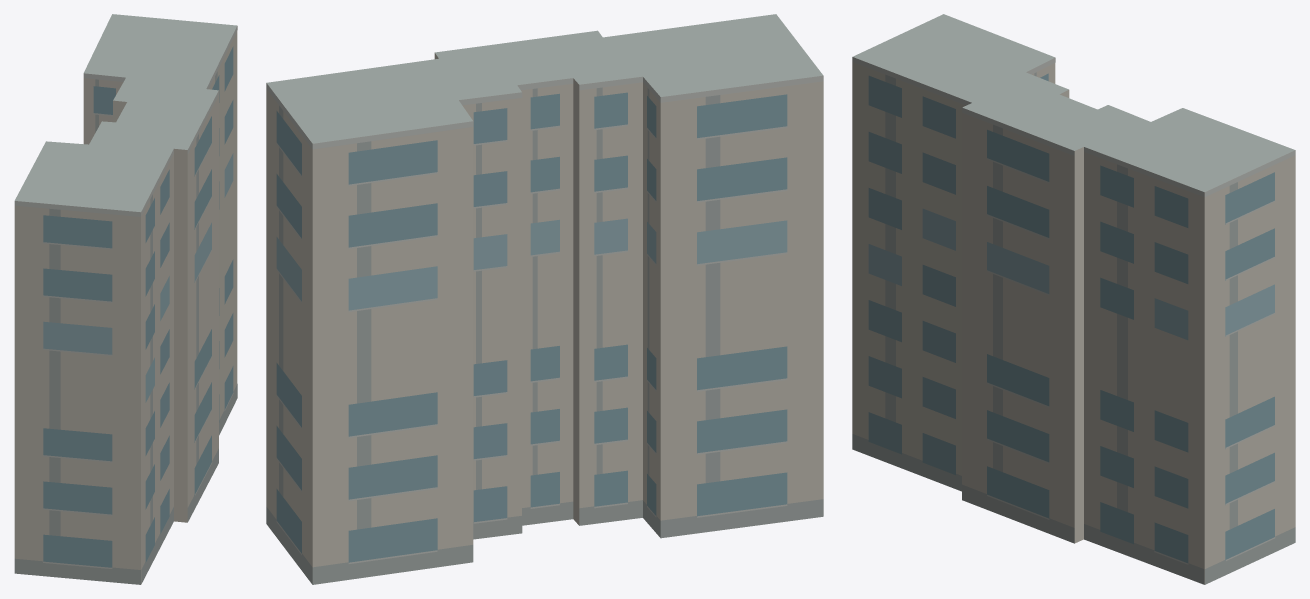
Rendered from survey-upis-32851007.glb.
3 renders of one model, left to right at view 1: azimuth 30°, elevation 25°; view 2: azimuth 150°, elevation 25°; view 3: azimuth 270°, elevation 25°, orthographic. The views are drawn at different scales.
Visible parts, largest first — view 1: survey-upis-32851007.tmp; view 2: survey-upis-32851007.tmp; view 3: survey-upis-32851007.tmp.
Boxes of the visible parts, left/top/right/bottom form: survey-upis-32851007.tmp: left=14, top=14, right=237, bottom=584; survey-upis-32851007.tmp: left=266, top=14, right=823, bottom=584; survey-upis-32851007.tmp: left=852, top=14, right=1295, bottom=584.
Size of the model in its own units: 18.41 by 18.9 by 19.34.
